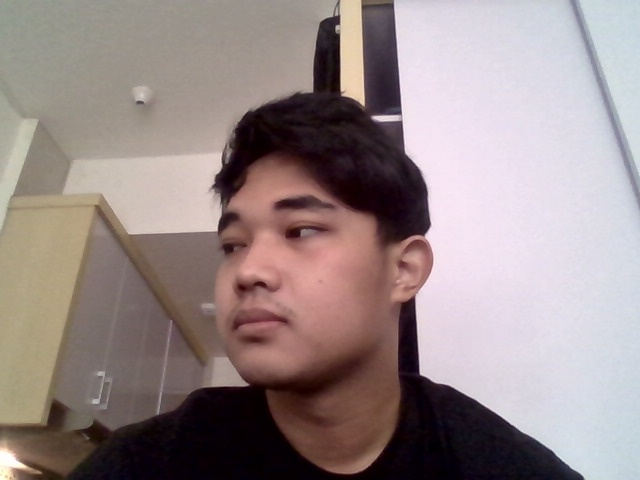Awake: (195, 98, 454, 459)
